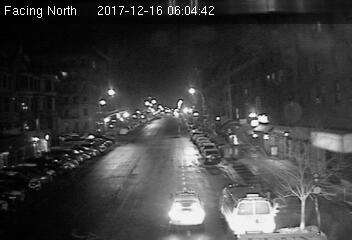car: (203, 149, 221, 163)
police: (220, 182, 279, 237), (168, 188, 207, 228)
